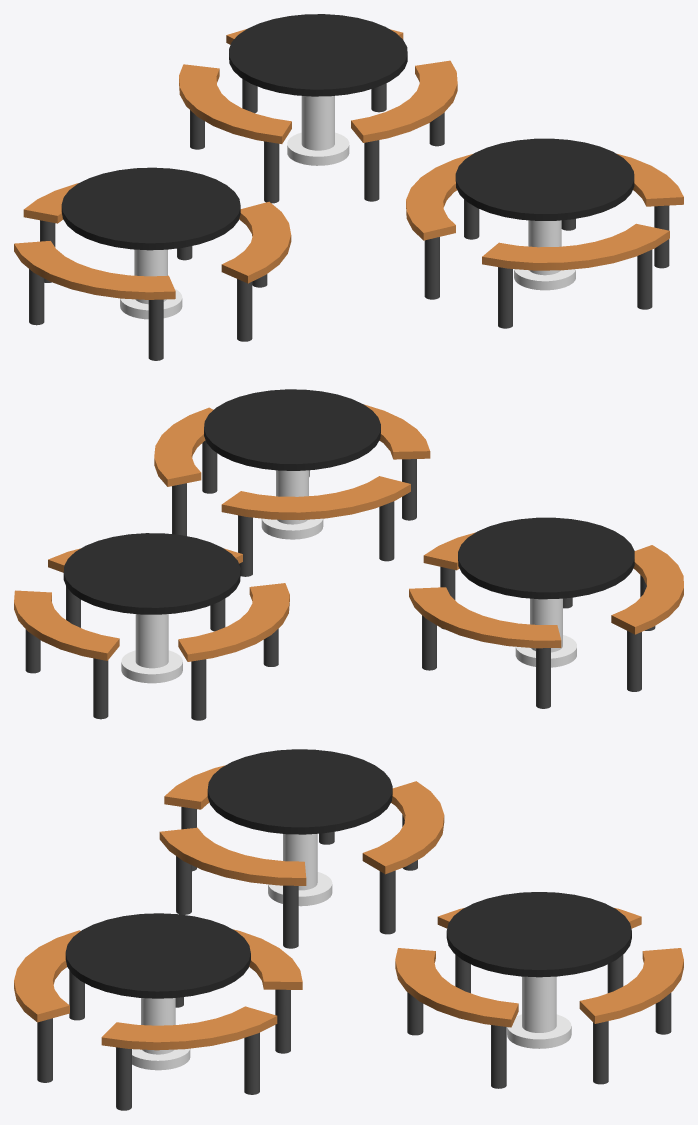
The model's file is foodbench.glb.
3 renders of one model, top to bottom at view 1: azimuth 30°, elevation 25°; view 2: azimuth 150°, elevation 25°; view 3: azimuth 270°, elevation 25°, orthographic. The views are drawn at different scales.
Parts seen in each view (by area): view 1: Circle.003; view 2: Circle.003; view 3: Circle.003.
Boxes of the visible parts, box(x1,y1,x2,y2) form: Circle.003: box(14, 14, 683, 360); Circle.003: box(14, 389, 683, 720); Circle.003: box(14, 749, 683, 1110).
Size of the model in its own units: 1.54 by 0.2622 by 1.52.
